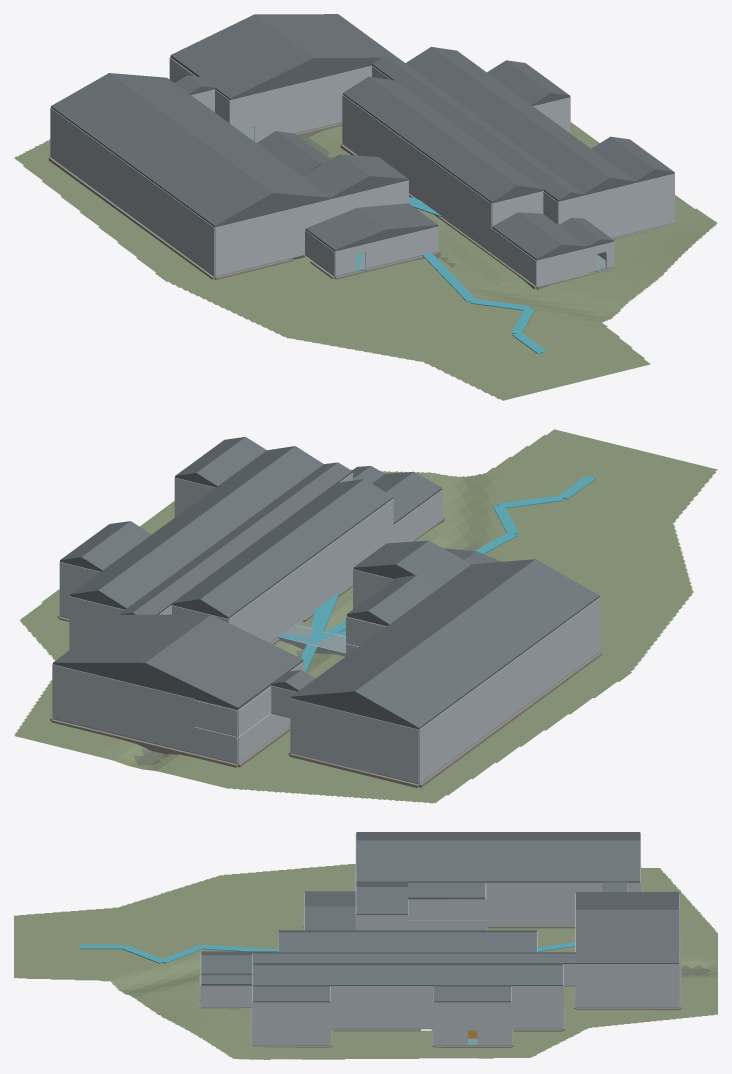
File: authored-bays.glb
3 views of the same model, one above another, from view 1: azimuth 30°, elevation 25°; view 2: azimuth 150°, elevation 25°; view 3: azimuth 270°, elevation 25° (orthographic). The views are drawn at different scales.
Visible parts, largest first — view 1: Saved editor macroterrain COLLEGE, teaching-and-lecture roof west, east-residence-and-service roof west, teaching-and-lecture roof east, library roof west, west-residence roof west, Wall lecture S, library roof east, Wall lecture W, east-residence-and-service roof east, residence-spine roof west, west-residence roof east (+39 smaller); view 2: Saved editor macroterrain COLLEGE, teaching-and-lecture roof west, east-residence-and-service roof west, teaching-and-lecture roof east, library roof west, west-residence roof west, library roof east, Wall lecture W, east-residence-and-service roof east, residence-spine roof west, west-residence roof east, Wall project N (+45 smaller); view 3: Saved editor macroterrain COLLEGE, teaching-and-lecture roof east, east-residence-and-service roof east, library roof east, west-residence roof east, teaching-and-lecture roof west, residence-spine roof east, COLLEGE retained outside wall 7, COLLEGE retained outside wall 4, library roof west, Wall upper-reading E, Wall upper-north-stair E (+30 smaller).
Boxes of the visible parts, x1,y1,x2,y2 form: Saved editor macroterrain COLLEGE: [14, 122, 717, 400]; teaching-and-lecture roof west: [51, 73, 272, 227]; east-residence-and-service roof west: [405, 47, 609, 194]; teaching-and-lecture roof east: [109, 73, 330, 198]; library roof west: [170, 14, 313, 99]; west-residence roof west: [343, 76, 517, 203]; Wall lecture S: [215, 205, 305, 276]; library roof east: [255, 14, 397, 59]; Wall lecture W: [140, 173, 214, 276]; east-residence-and-service roof east: [432, 47, 635, 182]; residence-spine roof west: [424, 94, 571, 201]; west-residence roof east: [369, 76, 543, 190]; Saved editor macroterrain COLLEGE: [14, 429, 717, 803]; teaching-and-lecture roof west: [355, 559, 599, 729]; east-residence-and-service roof west: [98, 446, 323, 608]; teaching-and-lecture roof east: [291, 559, 535, 698]; library roof west: [145, 615, 303, 709]; west-residence roof west: [200, 479, 392, 618]; library roof east: [53, 614, 210, 664]; Wall lecture W: [518, 597, 600, 710]; east-residence-and-service roof east: [70, 446, 294, 595]; residence-spine roof west: [190, 462, 352, 579]; west-residence roof east: [171, 479, 363, 604]; Wall project N: [319, 705, 418, 756]; Saved editor macroterrain COLLEGE: [14, 864, 717, 1059]; teaching-and-lecture roof east: [356, 840, 640, 882]; east-residence-and-service roof east: [253, 965, 562, 986]; library roof east: [576, 910, 679, 964]; west-residence roof east: [278, 932, 536, 952]; teaching-and-lecture roof west: [356, 832, 640, 840]; residence-spine roof east: [253, 953, 485, 962]; COLLEGE retained outside wall 7: [485, 882, 601, 903]; COLLEGE retained outside wall 4: [486, 904, 575, 924]; library roof west: [576, 892, 679, 909]; Wall upper-reading E: [601, 964, 679, 985]; Wall upper-north-stair E: [433, 1002, 511, 1023].
Bounding box in the file's own units: 73 × 13.86 × 109.
